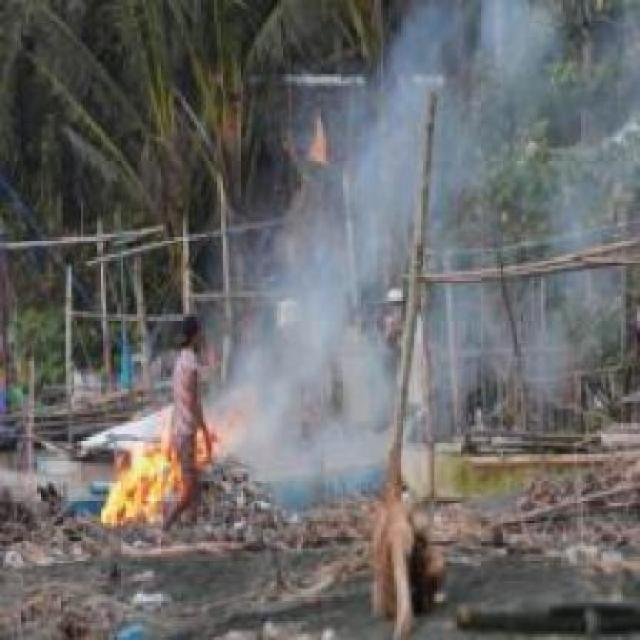Fire: (101, 442, 173, 526)
Smoke: (231, 0, 636, 502)
